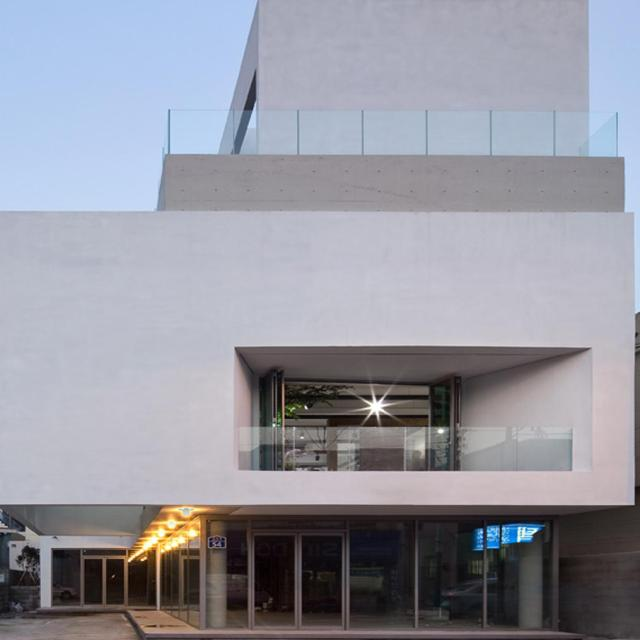Railing: (168, 110, 619, 157), (238, 426, 572, 469)
door: (247, 530, 347, 632), (81, 556, 130, 604)
wall: (0, 0, 634, 631)
windows: (227, 520, 558, 631), (54, 518, 199, 625)
